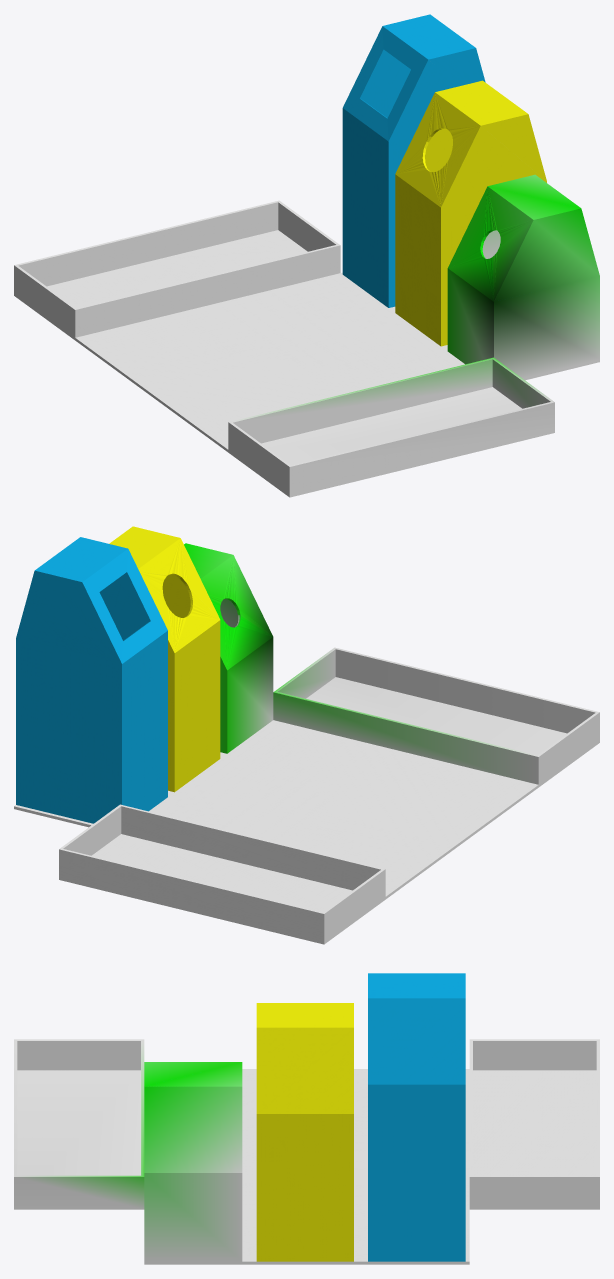
The model's file is work_space_col.dae.
3 renders of one model, top to bottom at view 1: azimuth 30°, elevation 25°; view 2: azimuth 150°, elevation 25°; view 3: azimuth 270°, elevation 25°, orthographic. The views are drawn at different scales.
Visible parts, largest first — view 1: node; view 2: node; view 3: node.
Part boxes in pixels (x1,y1,x2,y2): node: (14,14,599,497); node: (14,526,599,944); node: (14,973,599,1264).
Bounding box in the file's own units: 1.4 × 0.87 × 1.8.
1 material, 1 textured.
